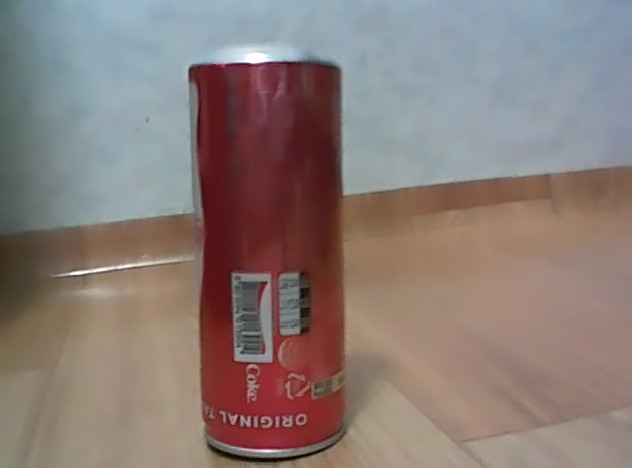Can: (181, 43, 353, 463)
